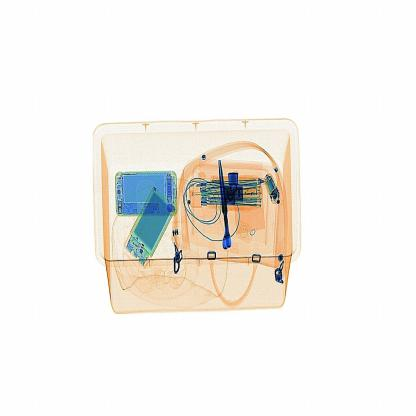gun: (209, 137, 240, 257)
